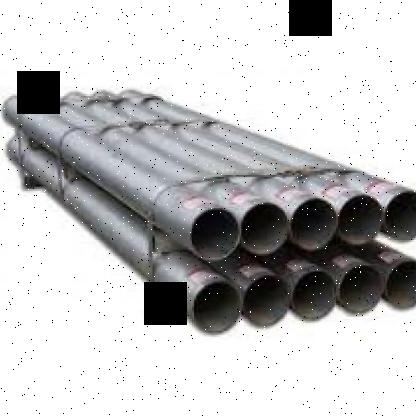pipe: (189, 205, 242, 264), (191, 278, 244, 337), (238, 201, 293, 257), (241, 273, 294, 331), (289, 197, 340, 253), (290, 268, 340, 323), (336, 192, 386, 246), (338, 263, 386, 317), (382, 189, 416, 243), (385, 258, 416, 313)
